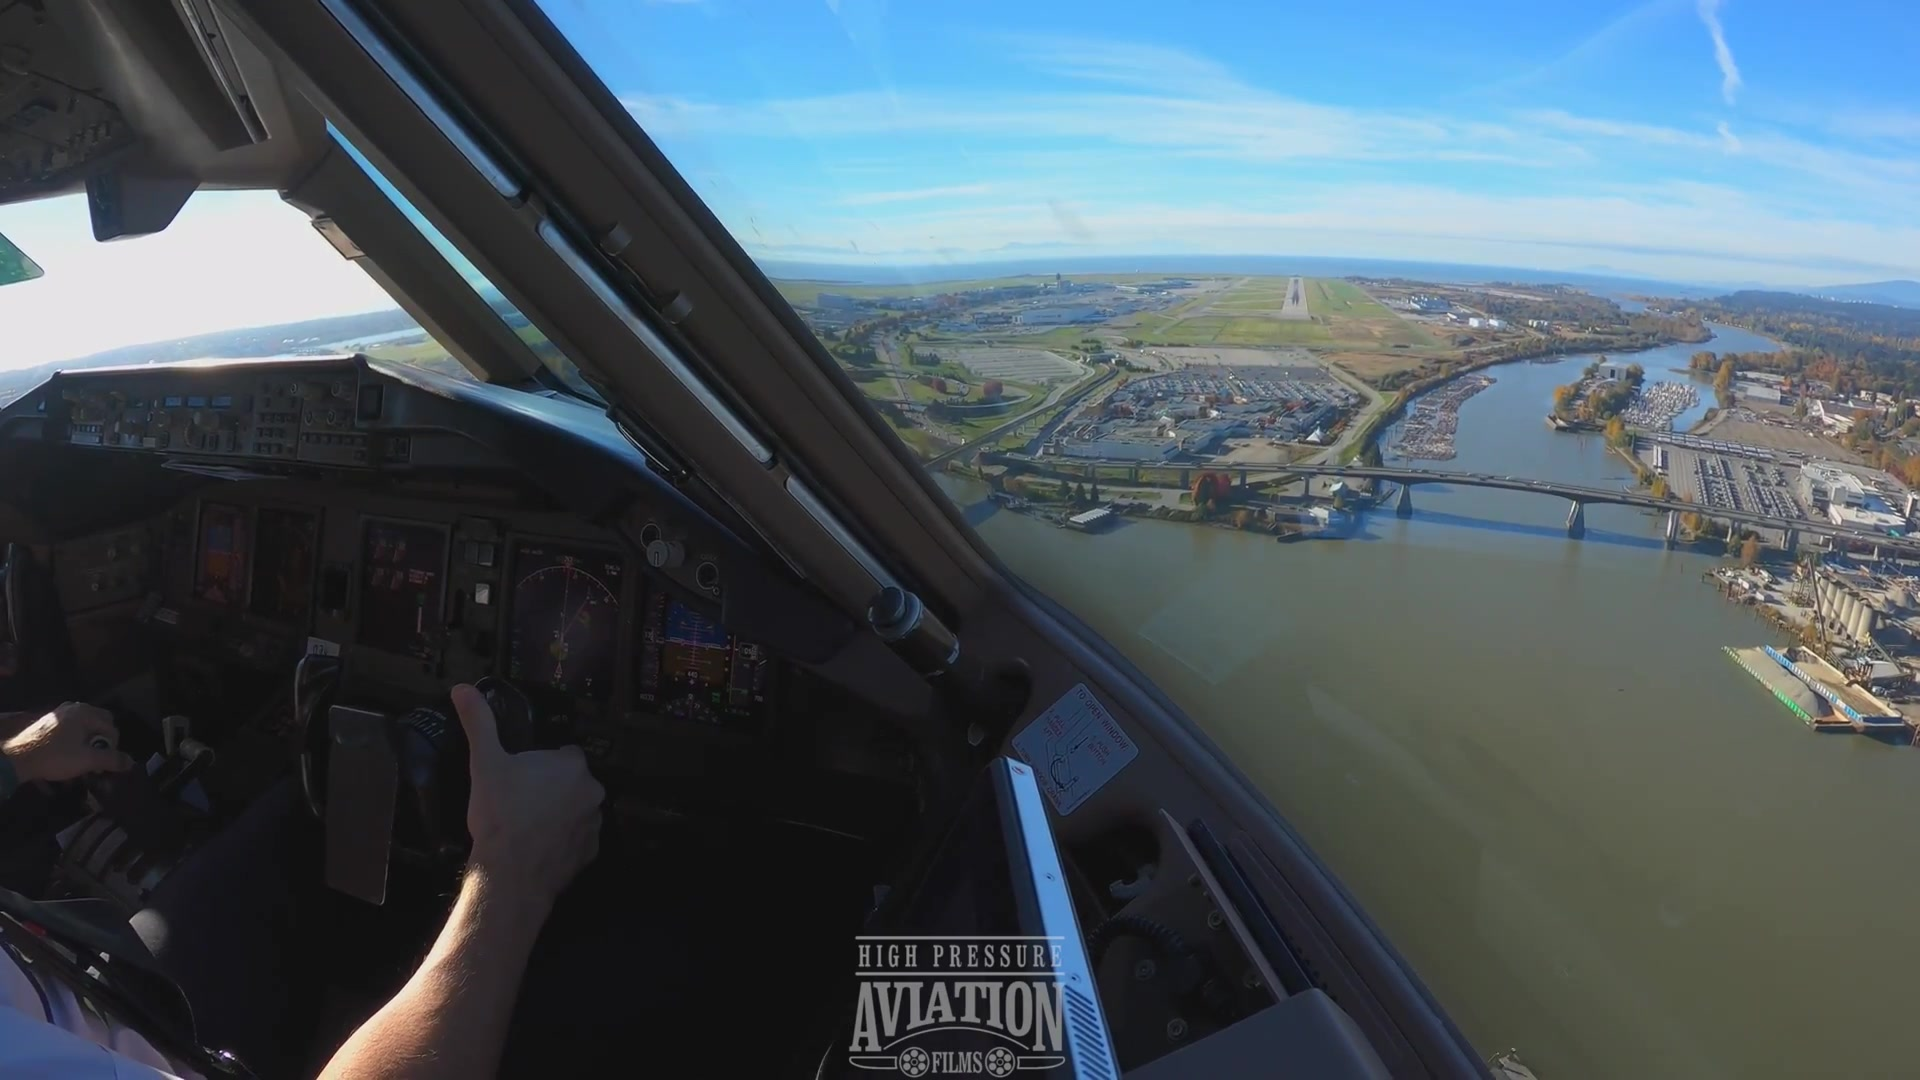runway: (1278, 277, 1309, 323)
